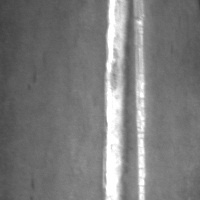inclusion: (27, 170, 39, 194)
scratches: (102, 1, 131, 200), (130, 1, 147, 200)
